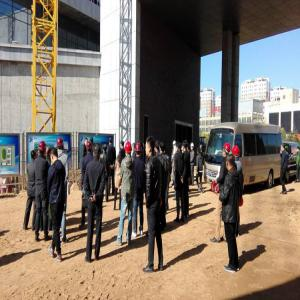none: (146, 137, 156, 159), (51, 147, 59, 165), (227, 155, 236, 171), (94, 145, 101, 161), (183, 140, 189, 153), (32, 151, 38, 163), (46, 147, 52, 159), (175, 143, 181, 154), (160, 142, 165, 154), (121, 141, 126, 151), (281, 144, 286, 154), (156, 142, 160, 154), (104, 144, 109, 153), (133, 143, 137, 153), (90, 137, 94, 146), (109, 137, 113, 146), (85, 139, 89, 147), (198, 148, 202, 156)
red: (233, 146, 241, 163), (125, 142, 133, 158), (40, 142, 47, 159), (58, 138, 65, 153), (224, 144, 231, 159), (136, 144, 142, 159), (88, 142, 93, 154)
white: (191, 143, 195, 152)
